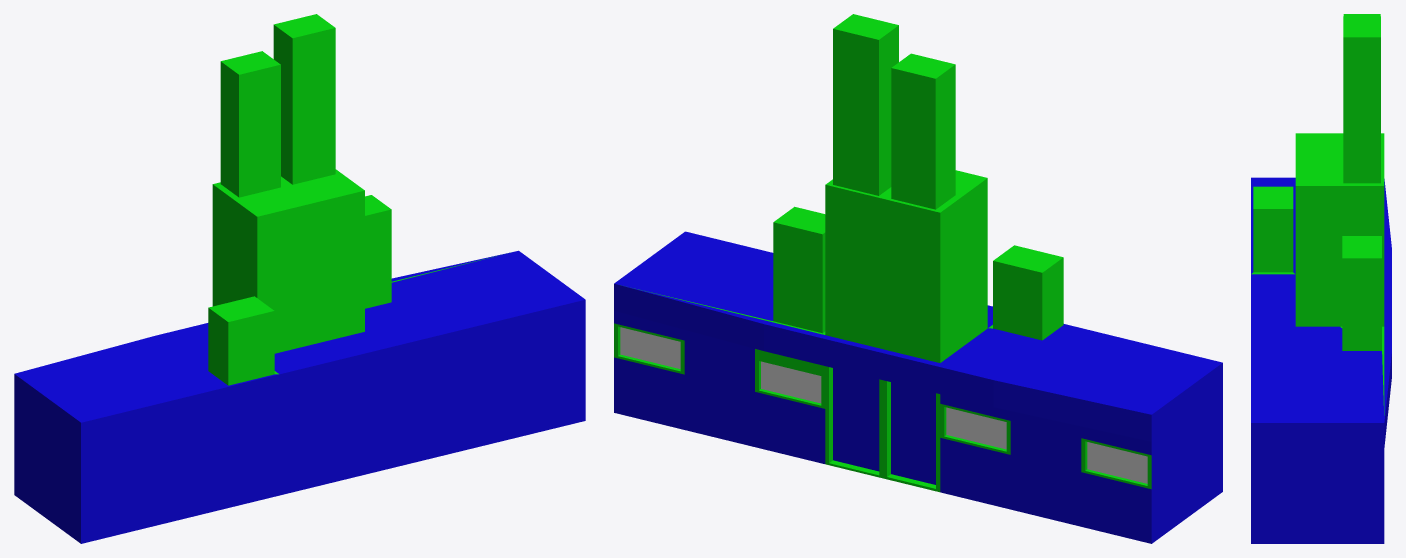
3 views of the same model, side by side, from view 1: azimuth 30°, elevation 25°; view 2: azimuth 150°, elevation 25°; view 3: azimuth 270°, elevation 25° (orthographic). The views are drawn at different scales.
Visible parts, largest first — view 1: Cube.059; view 2: Cube.059; view 3: Cube.059.
Part boxes in pixels (box(x1,y1,x2,y2)): Cube.059: box(14, 14, 585, 543); Cube.059: box(614, 14, 1222, 543); Cube.059: box(1251, 14, 1391, 543).
Bounding box in the file's own units: 3495 × 2707 × 848.
